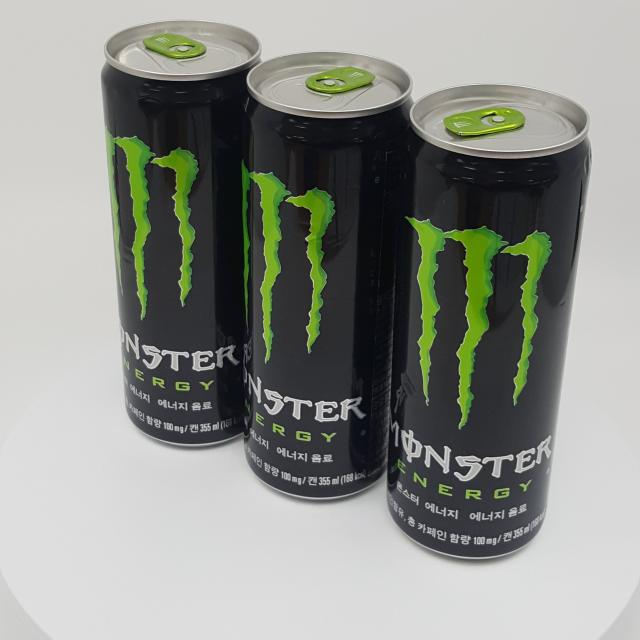--------355ML: (386, 83, 592, 559), (243, 50, 414, 500), (100, 19, 263, 447)
